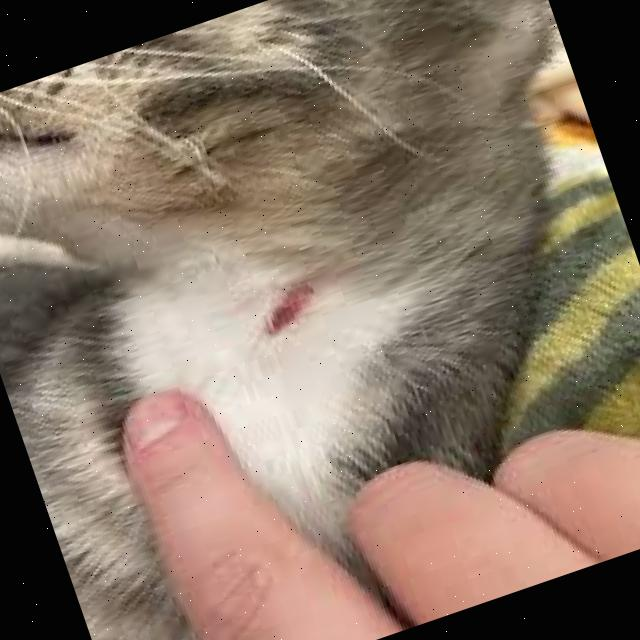cat-dermatitis: (254, 273, 334, 338)
